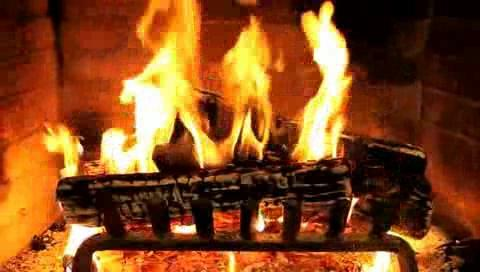fire: (103, 7, 363, 173)
